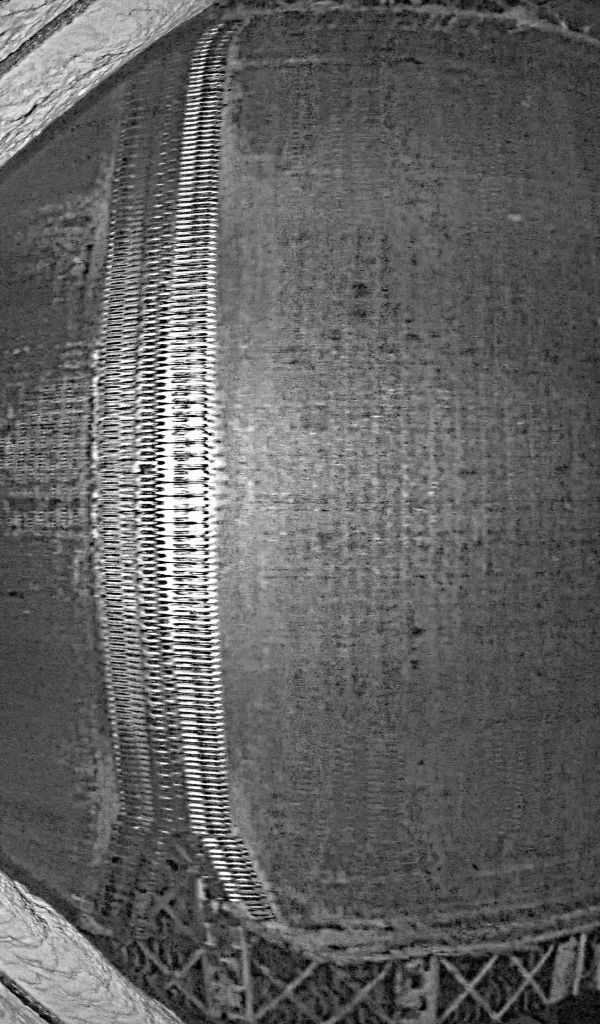damage: (88, 820, 280, 937)
splice: (86, 21, 282, 939)
